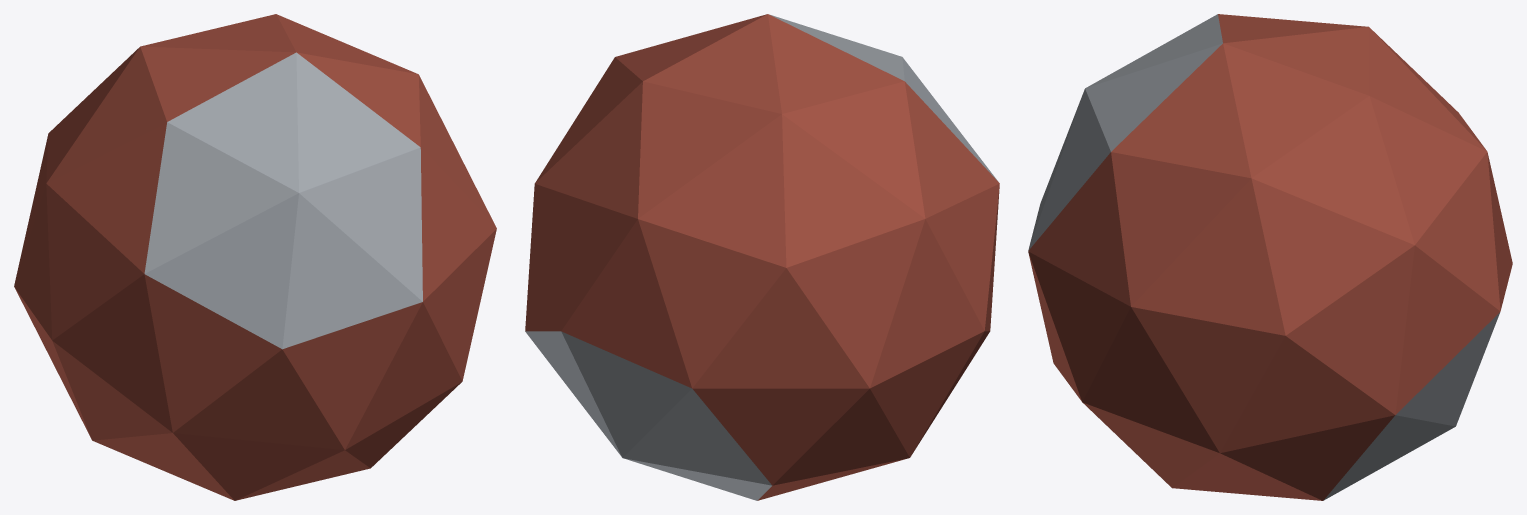
The model's file is SM_Bld_Planetarium_01_ring01_Planet_Main_1.fbx.
3 views of the same model, side by side, from view 1: azimuth 30°, elevation 25°; view 2: azimuth 150°, elevation 25°; view 3: azimuth 270°, elevation 25° (orthographic). The views are drawn at different scales.
Visible parts, largest first — view 1: SM_Bld_Planetarium_01_ring01_Planet_Main_1; view 2: SM_Bld_Planetarium_01_ring01_Planet_Main_1; view 3: SM_Bld_Planetarium_01_ring01_Planet_Main_1.
Boxes of the visible parts, box(x1,y1,x2,y2) form: SM_Bld_Planetarium_01_ring01_Planet_Main_1: box(14, 14, 496, 500); SM_Bld_Planetarium_01_ring01_Planet_Main_1: box(525, 14, 999, 500); SM_Bld_Planetarium_01_ring01_Planet_Main_1: box(1028, 14, 1512, 500).
Size of the model in its own units: 44 by 42.76 by 43.44.
Materials: 2 (1 with a texture image).
